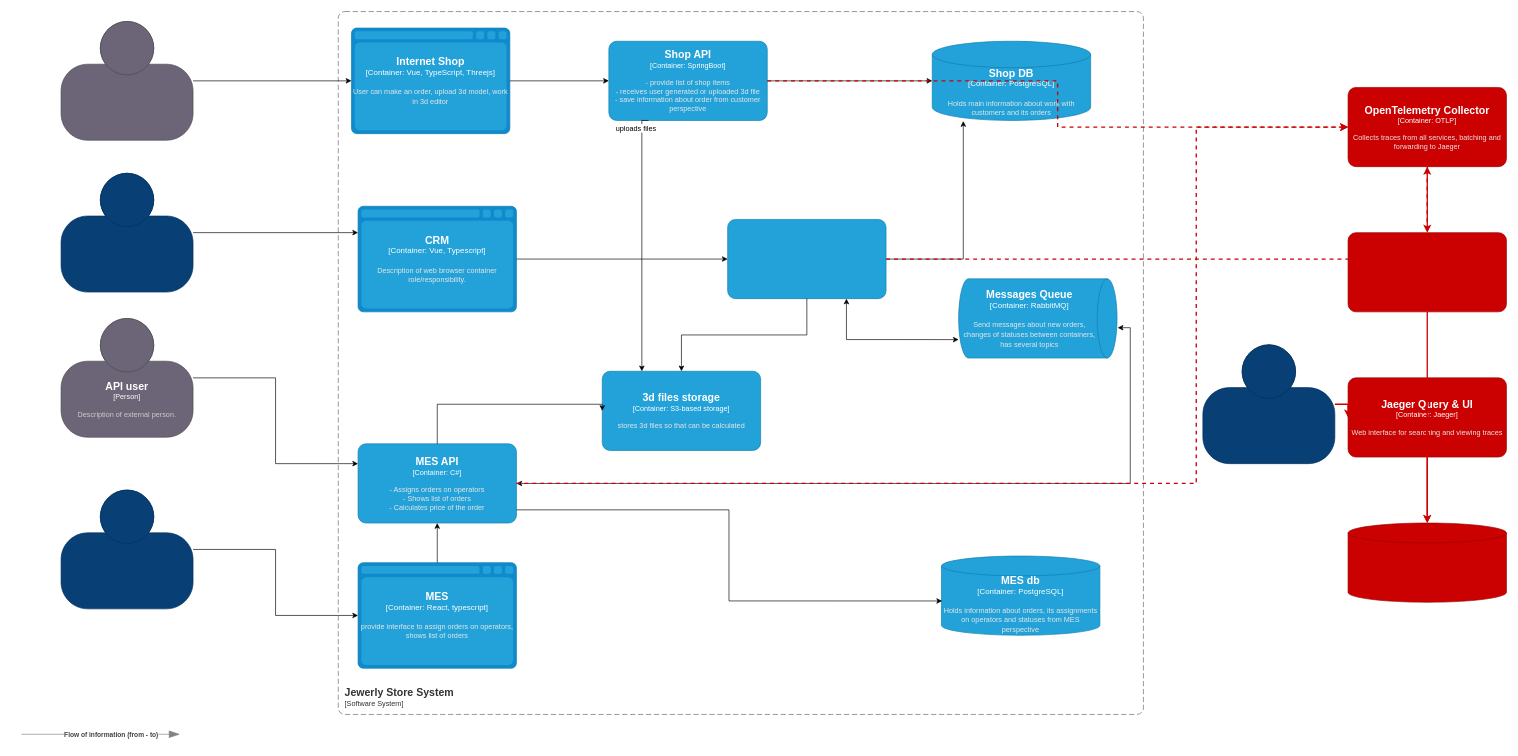
Some shapes in this 1518 by 756 pixel diagram are drawn without their labels. The centre of each missing label's shape, as x and y in pixels:
"CRM API [Container: SpringBoot] Description of container role/responsibility." goes at point 806,259.
"Customer [Person] Description of external person." goes at point 126,80.
"Elasticsearch [Container: ElasticSearch] Stores traces (30 days retention)" goes at point 1426,562.
"Jaeger Collector [Container: Jaeger] Receives traces from OTel Collector" goes at point 1426,272.
"Operator [Person] Takes order in work, manufactures jewerly" goes at point 126,549.
"Seller [Person] Operates with order, confirms manufacturing for the user" goes at point 126,232.
"Support Team [Person] Views traces to debug issues" goes at point 1268,404.
